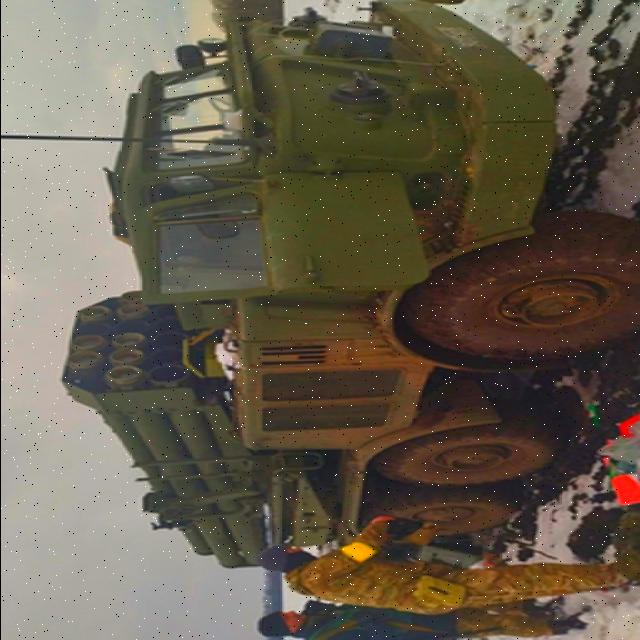MLRS: (42, 5, 634, 575)
